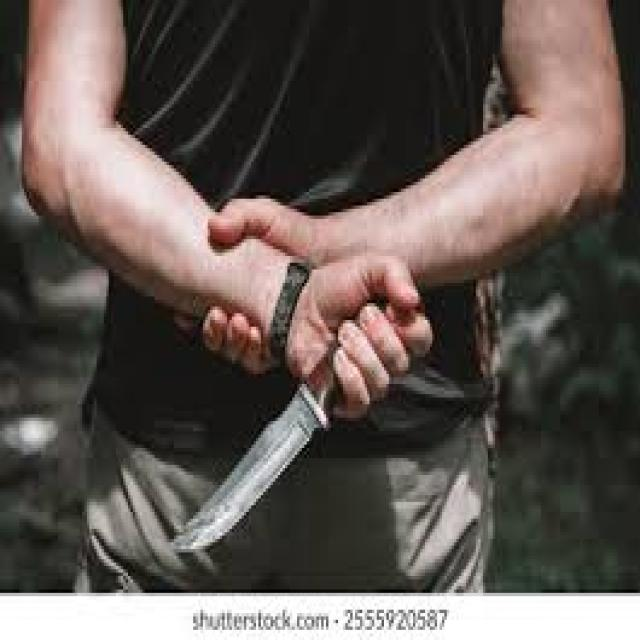knife: (168, 387, 311, 554)
